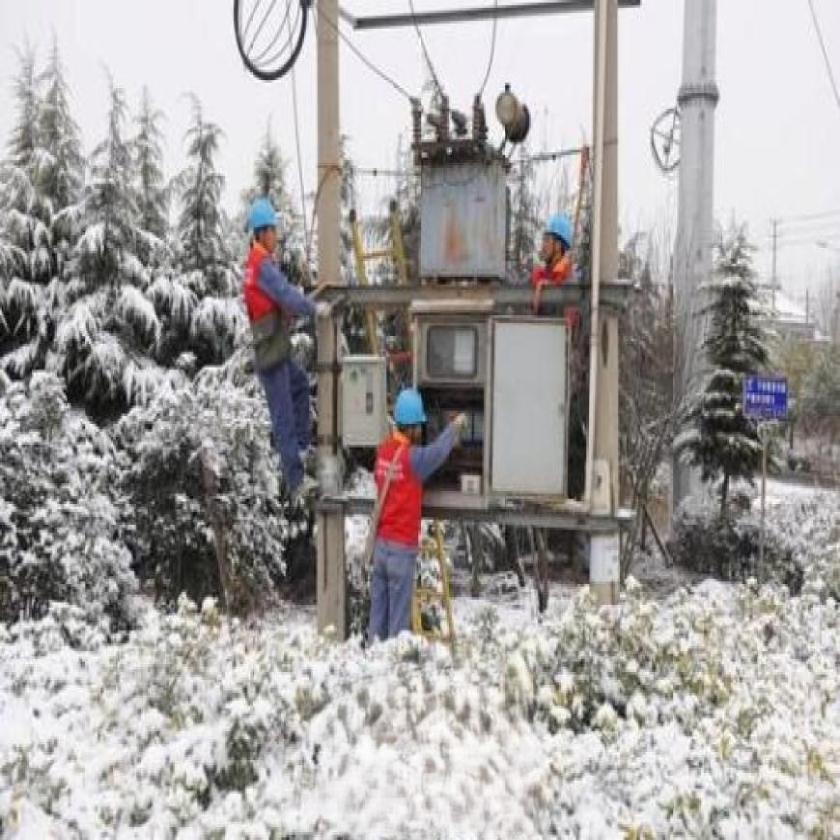Con_casco: (240, 178, 284, 251), (385, 379, 430, 447), (538, 196, 577, 267)
